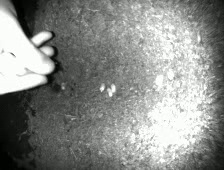corn: (152, 72, 167, 88), (96, 81, 107, 93), (104, 86, 114, 98), (109, 82, 118, 95), (58, 81, 68, 91)
